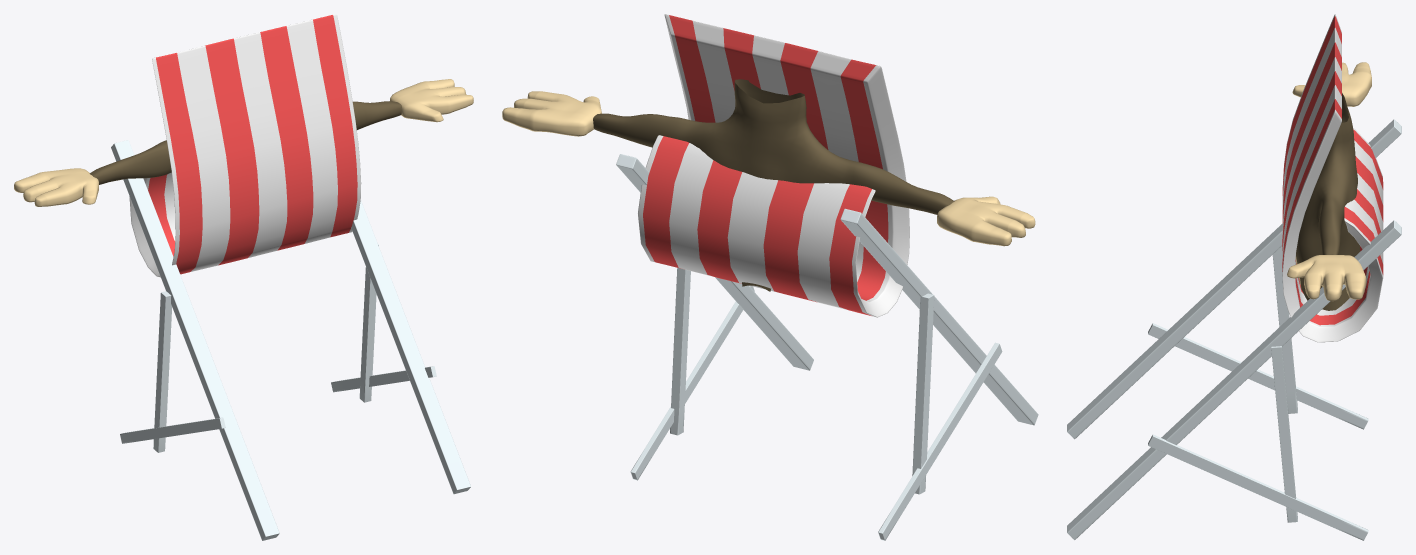
The model's file is Dead_Silla de playa.fbx.
The picture shows the model from 3 angles, left to right: view 1: azimuth 30°, elevation 25°; view 2: azimuth 150°, elevation 25°; view 3: azimuth 270°, elevation 25°; orthographic projection. The views are drawn at different scales.
Visible parts, largest first — view 1: polySurface5, pCube19, pCube26, polySurface19, polySurface11, polySurface12, pCube24, pCube21, pCube23, pCube20; view 2: polySurface5, polySurface19, pCube19, polySurface11, polySurface12, pCube26, pCube24, pCube23, pCube21, pCube20; view 3: polySurface5, pCube26, polySurface19, pCube19, pCube20, polySurface12, pCube23, pCube21, pCube24, polySurface11.
Boxes of the visible parts, <box> form: polySurface5: <box>129,14,361,277</box>; pCube19: <box>111,140,279,540</box>; pCube26: <box>351,200,470,494</box>; polySurface19: <box>89,101,401,184</box>; polySurface11: <box>14,168,98,206</box>; polySurface12: <box>390,79,473,122</box>; pCube24: <box>153,291,171,452</box>; pCube21: <box>359,244,378,402</box>; pCube23: <box>120,417,225,443</box>; pCube20: <box>331,366,436,392</box>; polySurface5: <box>638,14,909,317</box>; polySurface19: <box>593,79,954,291</box>; pCube19: <box>840,208,1038,425</box>; polySurface11: <box>937,196,1035,246</box>; polySurface12: <box>502,91,601,136</box>; pCube26: <box>616,154,813,370</box>; pCube24: <box>912,293,934,494</box>; pCube23: <box>878,342,1002,540</box>; pCube21: <box>670,268,690,435</box>; pCube20: <box>630,285,754,480</box>; polySurface5: <box>1282,14,1383,342</box>; pCube26: <box>1067,220,1401,539</box>; polySurface19: <box>1295,93,1360,310</box>; pCube19: <box>1067,119,1401,439</box>; pCube20: <box>1148,434,1368,540</box>; polySurface12: <box>1287,255,1366,301</box>; pCube23: <box>1148,323,1368,429</box>; pCube21: <box>1271,346,1297,522</box>; pCube24: <box>1272,246,1297,413</box>; polySurface11: <box>1292,62,1371,106</box>.
Size of the model in its own units: 5.69 by 4.86 by 3.48.
Materials: 7 (7 with a texture image).
